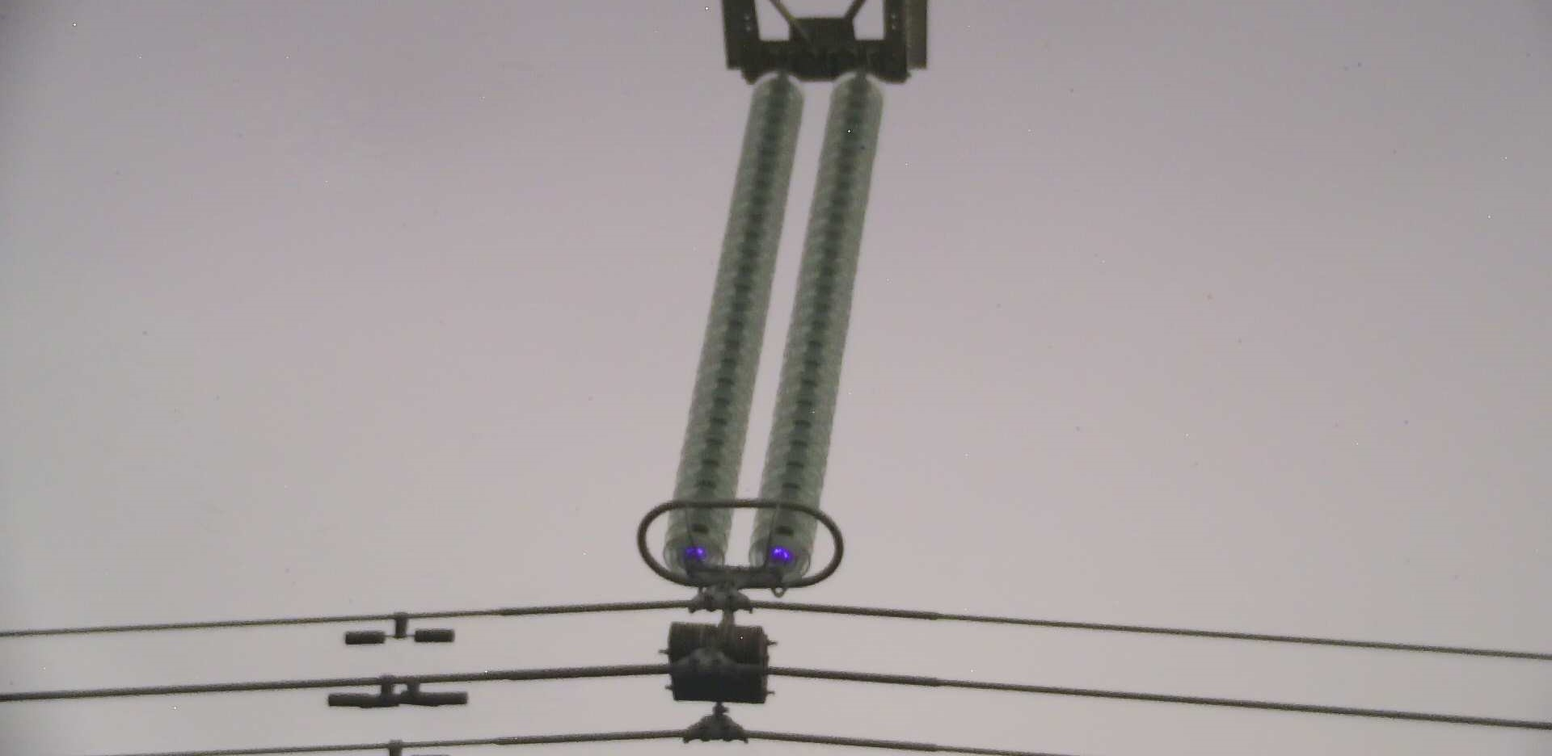绝缘子污闪: (770, 546, 792, 563), (684, 545, 706, 561)
